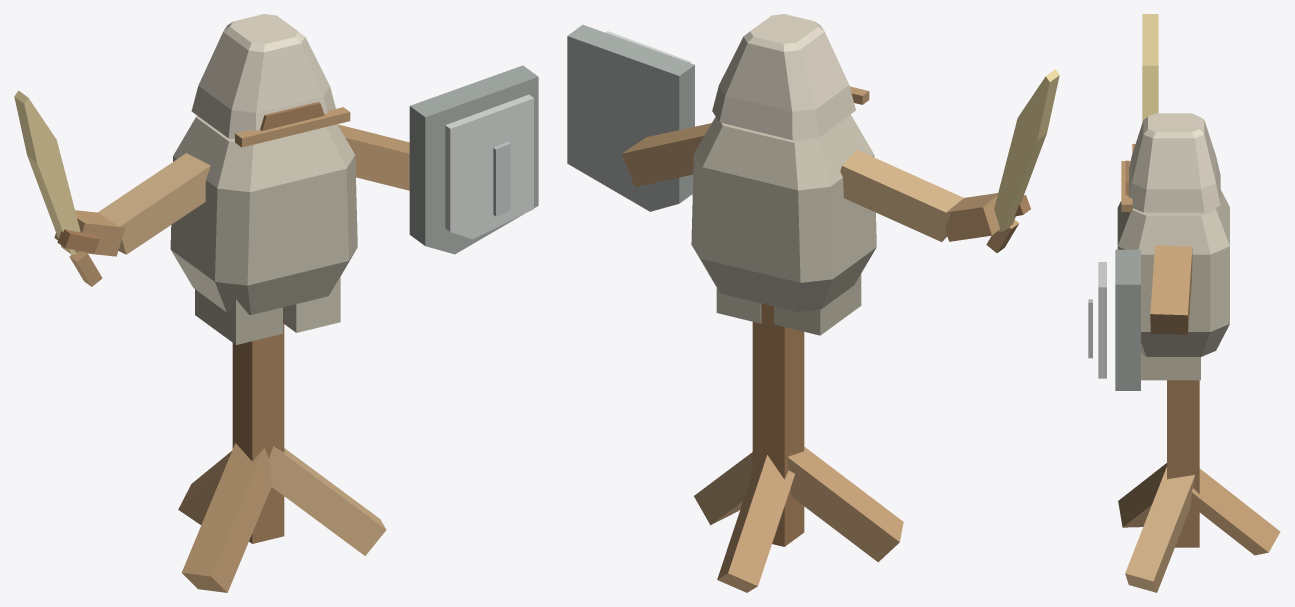
Rendered from dummy-knight.glb.
The picture shows the model from 3 angles, left to right: view 1: azimuth 30°, elevation 25°; view 2: azimuth 150°, elevation 25°; view 3: azimuth 270°, elevation 25°; orthographic projection. The views are drawn at different scales.
Visible parts, largest first — view 1: dummy-knight_torso_5, dummy-knight_hood_9, dummy-knight_shield_plate_19, dummy-knight_shield_edge_18, dummy-knight_post_1, dummy-knight_front_left_foot_2, dummy-knight_sword_arm_12, dummy-knight_front_right_foot_3, dummy-knight_wood_sword_blade_15, dummy-knight_shield_arm_14, dummy-knight_hanging_left_flap_6, dummy-knight_hanging_right_flap_7 (+6 smaller); view 2: dummy-knight_torso_5, dummy-knight_shield_edge_18, dummy-knight_hood_9, dummy-knight_post_1, dummy-knight_front_left_foot_2, dummy-knight_sword_arm_12, dummy-knight_rear_foot_4, dummy-knight_wood_sword_blade_15, dummy-knight_shield_arm_14, dummy-knight_front_right_foot_3, dummy-knight_hanging_left_flap_6, dummy-knight_sword_hand_13 (+1 smaller); view 3: dummy-knight_torso_5, dummy-knight_hood_9, dummy-knight_front_right_foot_3, dummy-knight_post_1, dummy-knight_shield_edge_18, dummy-knight_shield_arm_14, dummy-knight_rear_foot_4, dummy-knight_wood_sword_blade_15, dummy-knight_front_left_foot_2, dummy-knight_hanging_right_flap_7, dummy-knight_shield_plate_19, dummy-knight_hood_trim_11 (+1 smaller).
Boxes of the visible parts, x1,y1,x2,y2 form: dummy-knight_torso_5: (170,115,357,314); dummy-knight_hood_9: (191,14,335,138); dummy-knight_shield_plate_19: (445,94,533,239); dummy-knight_shield_edge_18: (409,65,538,254); dummy-knight_post_1: (232,323,284,543); dummy-knight_front_left_foot_2: (181,443,272,592); dummy-knight_sword_arm_12: (98,153,210,254); dummy-knight_front_right_foot_3: (269,446,386,555); dummy-knight_wood_sword_blade_15: (14,90,80,254); dummy-knight_shield_arm_14: (337,124,409,190); dummy-knight_hanging_left_flap_6: (195,289,282,344); dummy-knight_hanging_right_flap_7: (283,276,340,332); dummy-knight_torso_5: (691,114,876,311); dummy-knight_shield_edge_18: (567,24,694,211); dummy-knight_hood_9: (712,14,855,140); dummy-knight_post_1: (752,303,804,546); dummy-knight_front_left_foot_2: (787,447,903,562); dummy-knight_sword_arm_12: (840,150,963,241); dummy-knight_rear_foot_4: (717,455,794,592); dummy-knight_wood_sword_blade_15: (994,69,1059,231); dummy-knight_shield_arm_14: (622,123,711,186); dummy-knight_front_right_foot_3: (694,452,752,525); dummy-knight_hanging_left_flap_6: (774,274,861,335); dummy-knight_sword_hand_13: (945,193,999,241); dummy-knight_torso_5: (1117,190,1229,356); dummy-knight_hood_9: (1128,113,1220,212); dummy-knight_front_right_foot_3: (1125,467,1194,592); dummy-knight_post_1: (1167,380,1199,547); dummy-knight_shield_edge_18: (1115,249,1140,390); dummy-knight_shield_arm_14: (1150,245,1192,334); dummy-knight_rear_foot_4: (1191,468,1280,555); dummy-knight_wood_sword_blade_15: (1142,14,1158,122); dummy-knight_front_left_foot_2: (1118,463,1166,527); dummy-knight_hanging_right_flap_7: (1141,352,1200,380); dummy-knight_shield_plate_19: (1098,262,1106,378); dummy-knight_hood_trim_11: (1121,161,1132,211).
Bounding box in the file's own units: 2.02 × 2.09 × 0.8202.
